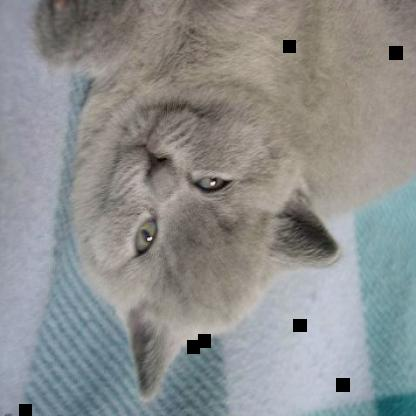cat: (32, 1, 415, 402)
